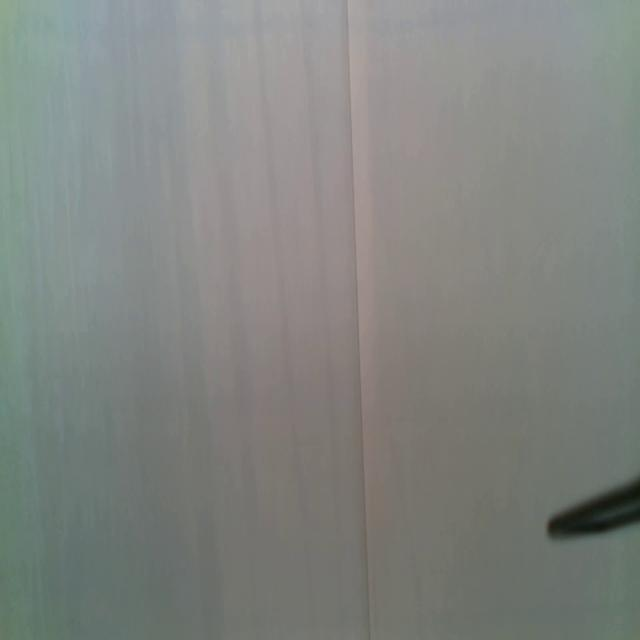crease: (347, 0, 372, 640)
